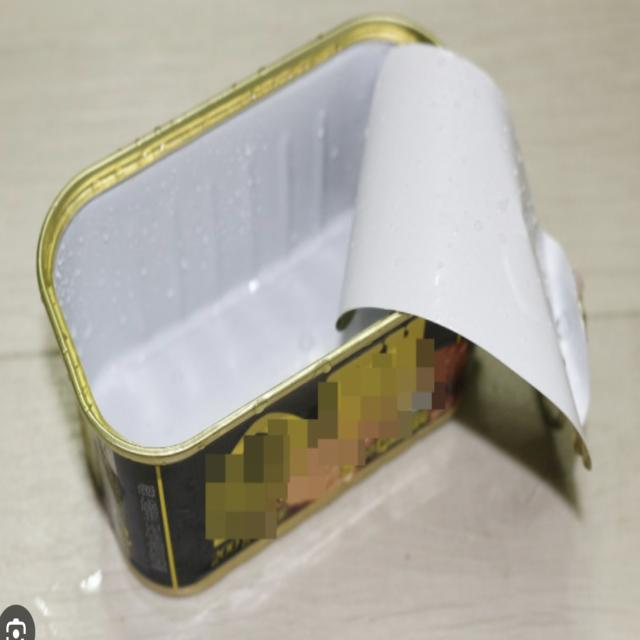recyclable: (17, 9, 617, 610)
